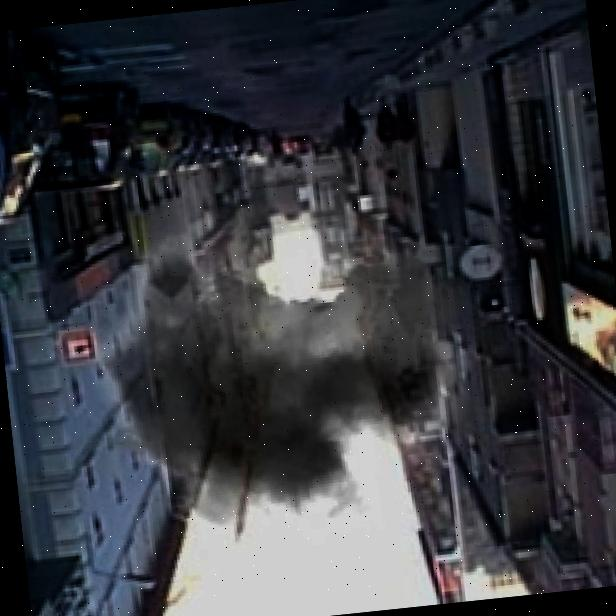smoke: (47, 138, 500, 594)
